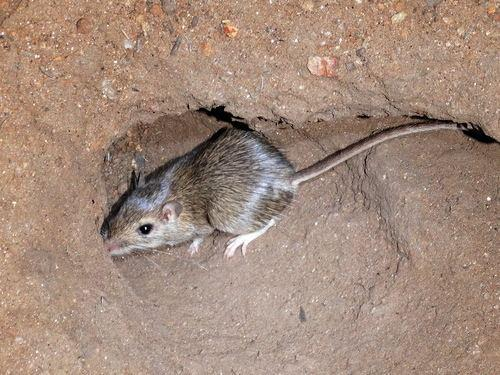rat: (101, 122, 478, 257)
